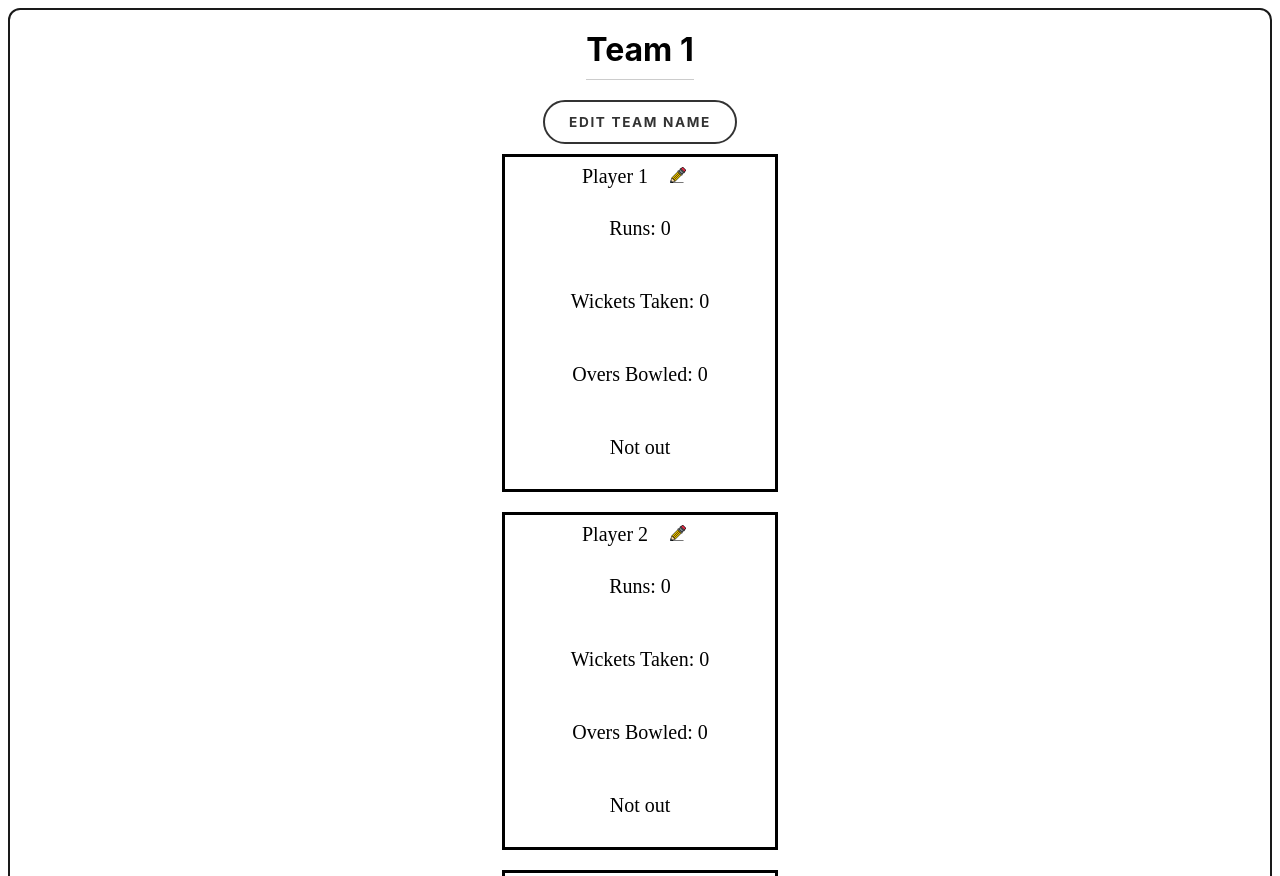
Test: Team Component › should show a textbox and save button, upon clicking the edit button, and hide the edit button
Click the button "Edit Team Name" at point(640, 122), box [543, 100, 737, 144]
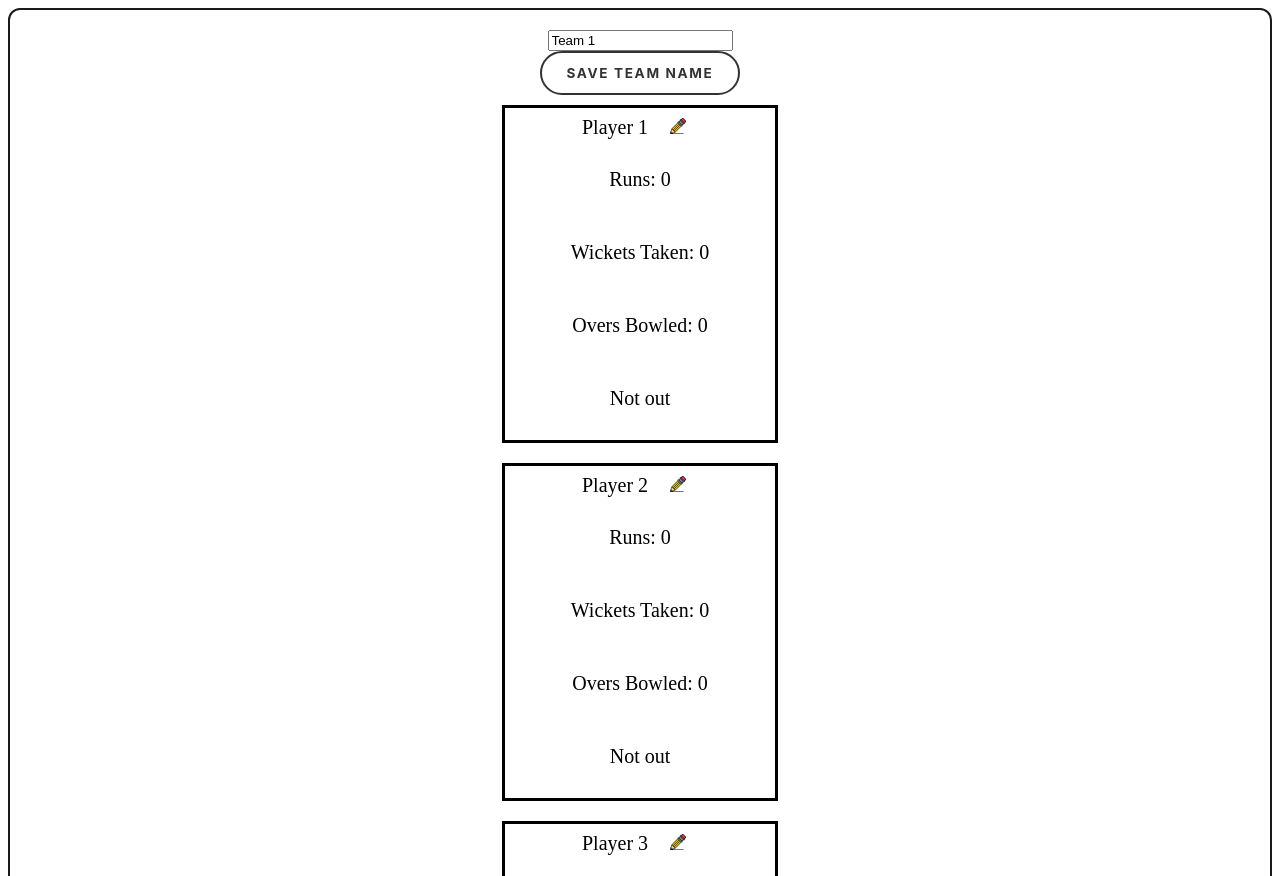
expect the field is shown: met, box [548, 30, 732, 51]
expect the button "Save Team Name" is shown: met, box [540, 51, 740, 95]
expect the button "Edit Team Name" is gone: met
